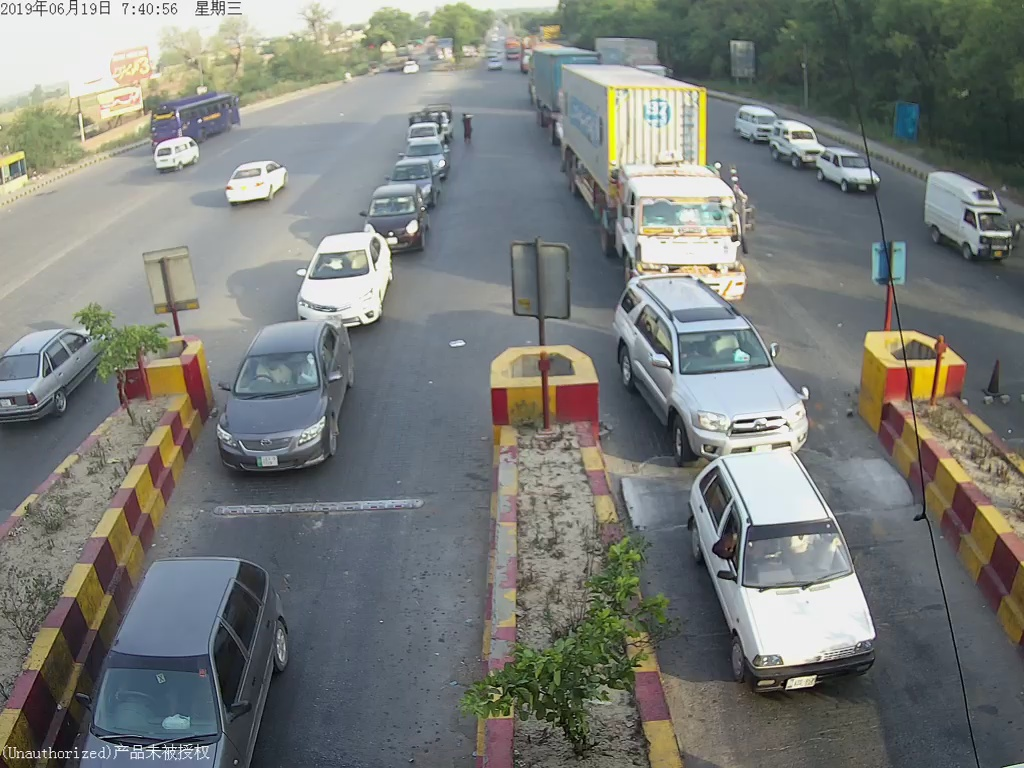Cat-1: (694, 471, 885, 692), (616, 288, 819, 451), (211, 325, 348, 466), (294, 229, 399, 325), (363, 190, 424, 236)
Cat-5: (570, 71, 756, 278)
